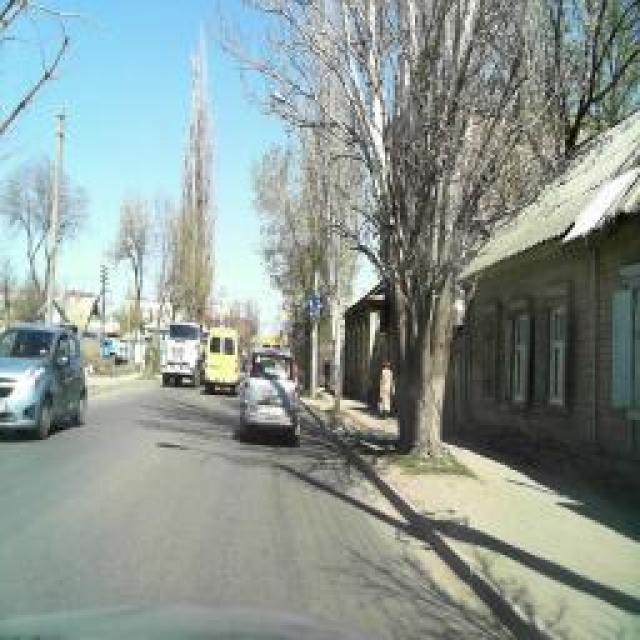sign: (280, 309, 288, 321)
